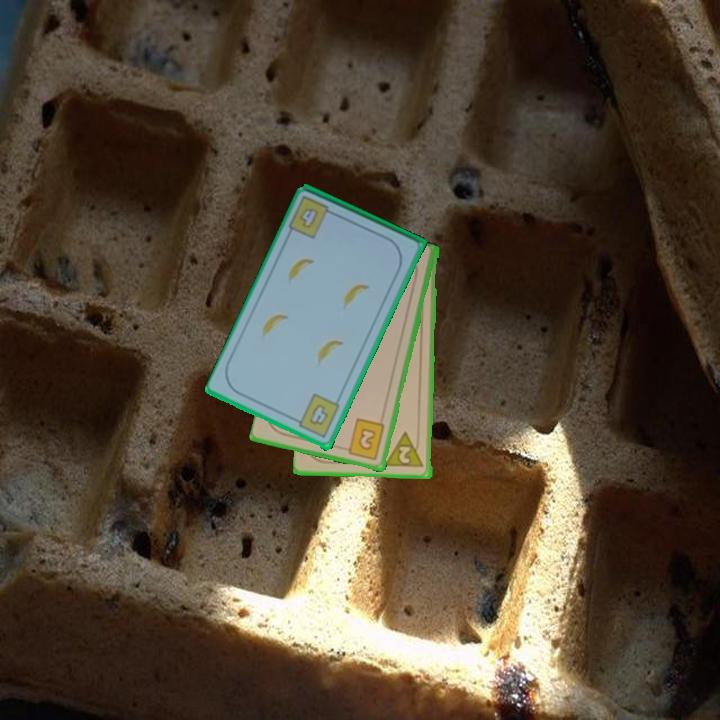2b: (339, 416, 388, 463)
2p: (384, 429, 427, 470)
4b: (285, 192, 340, 242), (290, 391, 343, 441)
